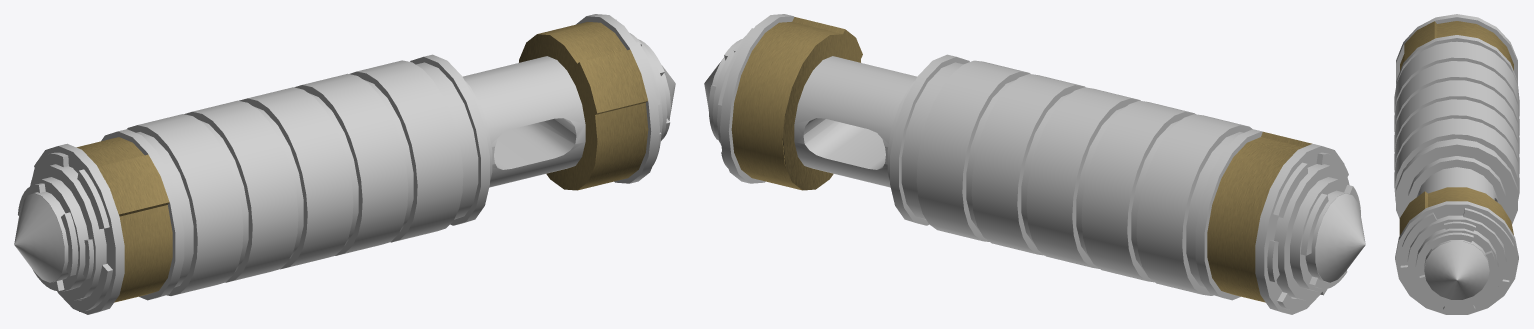
The model's file is anagram.FBX.
3 views of the same model, side by side, from view 1: azimuth 30°, elevation 25°; view 2: azimuth 150°, elevation 25°; view 3: azimuth 270°, elevation 25° (orthographic). The views are drawn at different scales.
Visible parts, largest first — view 1: Cylinder002, Cone001, Cylinder011, Cylinder012, Cylinder013, Cylinder015, Cylinder016, Cylinder014, Cylinder003, Cone002; view 2: Cylinder002, Cone001, Cylinder011, Cylinder012, Cylinder016, Cylinder013, Cylinder014, Cylinder015, Cylinder003, Cone002; view 3: Cone002, Cylinder002, Cylinder016, Cylinder012, Cylinder014, Cylinder015, Cylinder013, Cylinder011, Cylinder003, Cone001.
Boxes of the visible parts, x1,y1,x2,y2 form: Cylinder002: [101, 54, 585, 300]; Cone001: [14, 143, 124, 314]; Cylinder011: [519, 22, 648, 190]; Cylinder012: [127, 114, 243, 295]; Cylinder013: [184, 100, 298, 282]; Cylinder015: [294, 73, 408, 255]; Cylinder016: [350, 60, 463, 242]; Cylinder014: [239, 87, 353, 269]; Cylinder003: [76, 137, 172, 302]; Cone002: [576, 14, 675, 183]; Cylinder002: [794, 54, 1262, 300]; Cone001: [1255, 143, 1365, 314]; Cylinder011: [731, 17, 862, 190]; Cylinder012: [1136, 114, 1252, 295]; Cylinder016: [916, 60, 1030, 241]; Cylinder013: [1081, 100, 1195, 282]; Cylinder014: [1026, 87, 1140, 268]; Cylinder015: [971, 74, 1085, 255]; Cylinder003: [1207, 131, 1311, 302]; Cone002: [704, 14, 794, 183]; Cone002: [1395, 201, 1518, 314]; Cylinder002: [1396, 35, 1517, 224]; Cylinder016: [1394, 118, 1519, 202]; Cylinder012: [1394, 41, 1519, 115]; Cylinder014: [1394, 80, 1519, 153]; Cylinder015: [1394, 99, 1519, 173]; Cylinder013: [1394, 61, 1519, 135]; Cylinder011: [1399, 187, 1513, 235]; Cylinder003: [1400, 21, 1513, 70]; Cone001: [1396, 14, 1517, 80].
Size of the model in its own units: 66.21 by 15.13 by 15.17.
